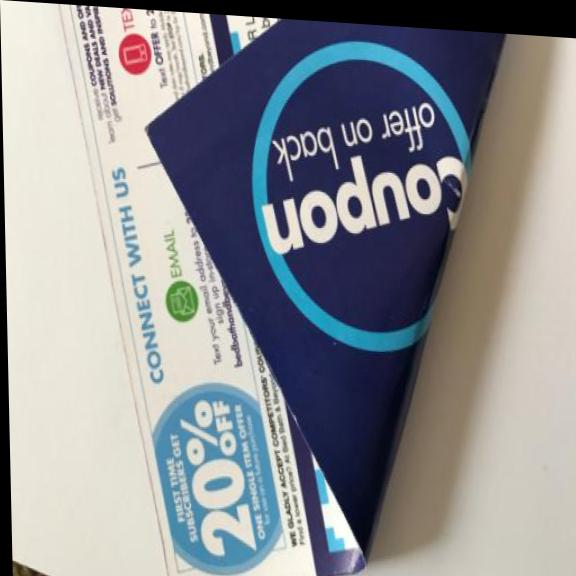Kertas: (55, 4, 522, 576)
